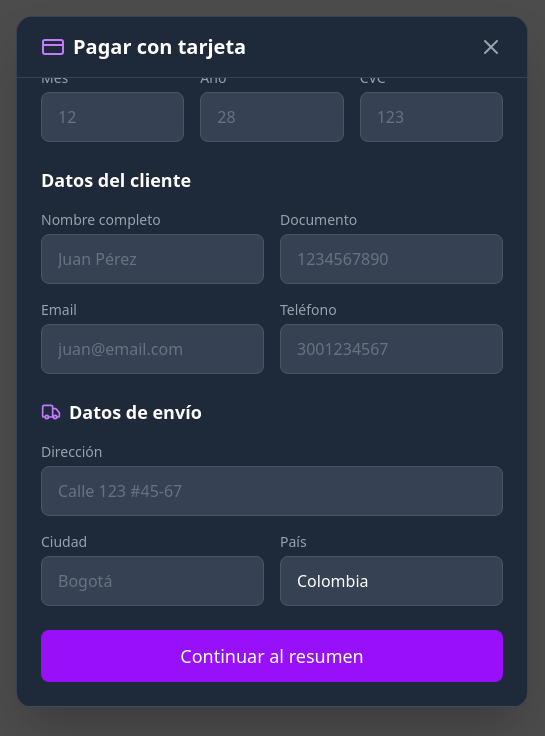
it: PaymentModal › Form Validation › shows error for invalid card number
(page scrolled)
Click the button "Continuar al resumen".
click(272, 656)  # box [41, 630, 503, 682]
(page scrolled)
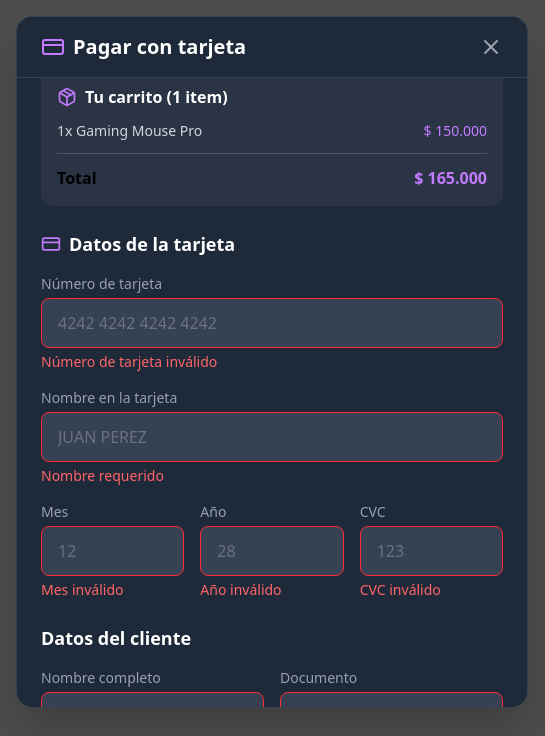
Result: the text "Número de tarjeta inválido" is shown at [41, 352, 217, 371]
